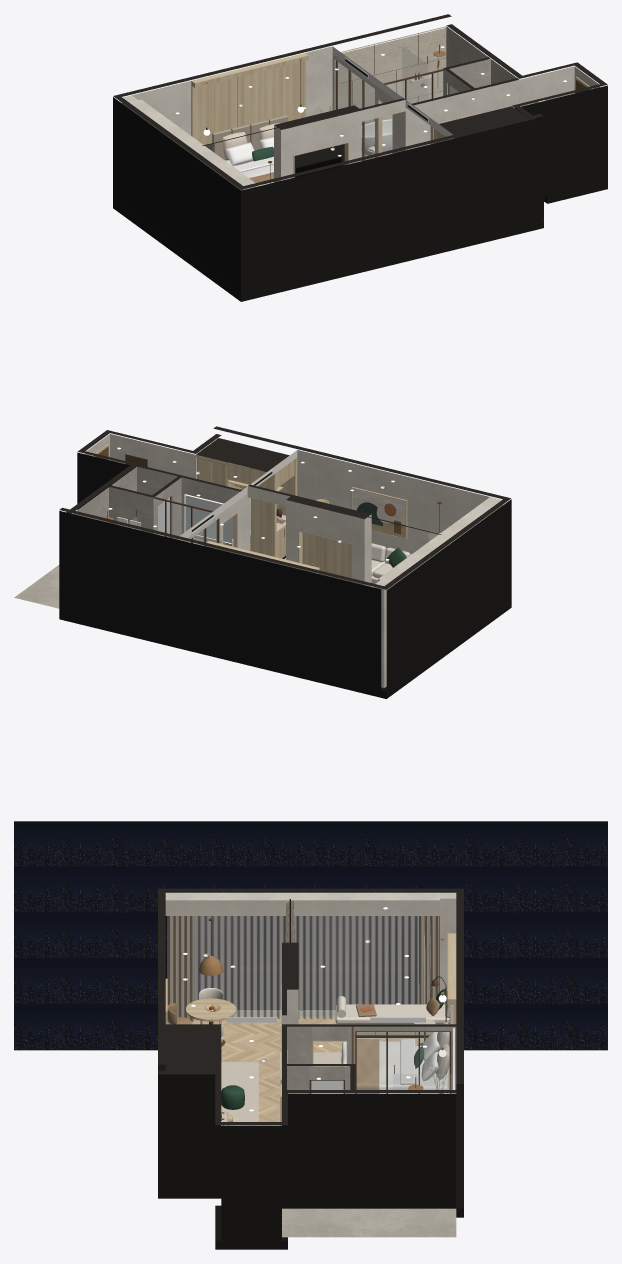
The model's file is user-suite-original.glb.
3 views of the same model, one above another, from view 1: azimuth 30°, elevation 25°; view 2: azimuth 150°, elevation 25°; view 3: azimuth 270°, elevation 25° (orthographic). The views are drawn at different scales.
Visible parts, largest first — view 1: Shell 墙体天花 [S 南墙], Shell 墙体天花 [W 西窗墙], BathWalls 卫浴墙体与玻璃, BedWall 床头背景墙, Shell 墙体天花 [N 北墙], Floor 地面, IslandWall 中岛墙, Bed 床, Window 窗与窗帘 [W 西窗墙], EntryWalls 玄关墙面, Shower 淋浴区, LuggageWardrobe 行李位与衣柜 (+5 smaller); view 2: Shell 墙体天花 [N 北墙], Shell 墙体天花 [W 西窗墙], Shell 墙体天花 [S 南墙], BathWalls 卫浴墙体与玻璃, Floor 地面, IslandWall 中岛墙, LuggageWardrobe 行李位与衣柜, Bar 吧台, Window 窗与窗帘 [W 西窗墙], EntryWalls 玄关墙面 [S 南墙], Art 挂画 [S 南墙], TV 旋转电视 (+6 smaller); view 3: Window 窗与窗帘 [OUT 窗外夜景], Shell 墙体天花 [E 东墙], Window 窗与窗帘 [W 西窗墙], Floor 地面, BathWalls 卫浴墙体与玻璃, Bed 床, Daybed 窗边卧榻, LuggageWardrobe 行李位与衣柜, Shell 墙体天花 [S 南墙], Shell 墙体天花 [N 北墙], LivingRug 客厅地毯, IslandWall 中岛墙 (+6 smaller).
Part boxes in pixels (x1=…): Shell 墙体天花 [S 南墙]: x1=239, y1=83, x2=607, y2=294; Shell 墙体天花 [W 西窗墙]: x1=113, y1=94, x2=246, y2=293; BathWalls 卫浴墙体与玻璃: x1=332, y1=26, x2=519, y2=160; BedWall 床头背景墙: x1=191, y1=53, x2=308, y2=160; Shell 墙体天花 [N 北墙]: x1=119, y1=14, x2=579, y2=135; Floor 地面: x1=113, y1=153, x2=607, y2=301; IslandWall 中岛墙: x1=274, y1=105, x2=361, y2=182; Bed 床: x1=222, y1=123, x2=282, y2=186; Window 窗与窗帘 [W 西窗墙]: x1=122, y1=95, x2=256, y2=190; EntryWalls 玄关墙面: x1=519, y1=66, x2=574, y2=106; Shower 淋浴区: x1=402, y1=44, x2=445, y2=102; LuggageWardrobe 行李位与衣柜: x1=439, y1=106, x2=529, y2=138; Shell 墙体天花 [N 北墙]: x1=59, y1=450, x2=383, y2=690; Shell 墙体天花 [W 西窗墙]: x1=381, y1=498, x2=511, y2=691; Shell 墙体天花 [S 南墙]: x1=105, y1=426, x2=509, y2=554; BathWalls 卫浴墙体与玻璃: x1=72, y1=465, x2=249, y2=550; Floor 地面: x1=14, y1=558, x2=511, y2=698; IslandWall 中岛墙: x1=286, y1=495, x2=371, y2=586; LuggageWardrobe 行李位与衣柜: x1=196, y1=438, x2=289, y2=551; Bar 吧台: x1=253, y1=458, x2=297, y2=558; Window 窗与窗帘 [W 西窗墙]: x1=374, y1=497, x2=502, y2=687; EntryWalls 玄关墙面 [S 南墙]: x1=110, y1=434, x2=195, y2=480; Art 挂画 [S 南墙]: x1=351, y1=487, x2=407, y2=539; TV 旋转电视: x1=302, y1=533, x2=351, y2=581; Window 窗与窗帘 [OUT 窗外夜景]: x1=14, y1=821, x2=607, y2=1050; Shell 墙体天花 [E 东墙]: x1=158, y1=1070, x2=456, y2=1240; Window 窗与窗帘 [W 西窗墙]: x1=165, y1=892, x2=456, y2=1021; Floor 地面: x1=158, y1=1017, x2=463, y2=1249; BathWalls 卫浴墙体与玻璃: x1=282, y1=1024, x2=456, y2=1093; Bed 床: x1=341, y1=1021, x2=449, y2=1093; Daybed 窗边卧榻: x1=335, y1=988, x2=453, y2=1037; LuggageWardrobe 行李位与衣柜: x1=165, y1=1024, x2=221, y2=1120; Shell 墙体天花 [S 南墙]: x1=158, y1=889, x2=221, y2=1125; Shell 墙体天花 [N 北墙]: x1=282, y1=891, x2=463, y2=1125; LivingRug 客厅地毯: x1=221, y1=1062, x2=258, y2=1121; IslandWall 中岛墙: x1=280, y1=942, x2=298, y2=1085.
Bounding box in the file's own units: 11.7 × 5 × 11.75.
Materials: 61 (15 with a texture image).
